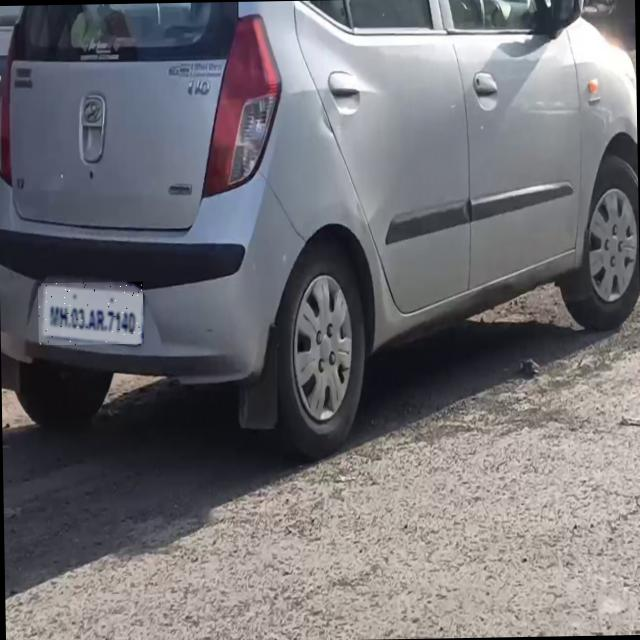Plate: (39, 282, 145, 346)
